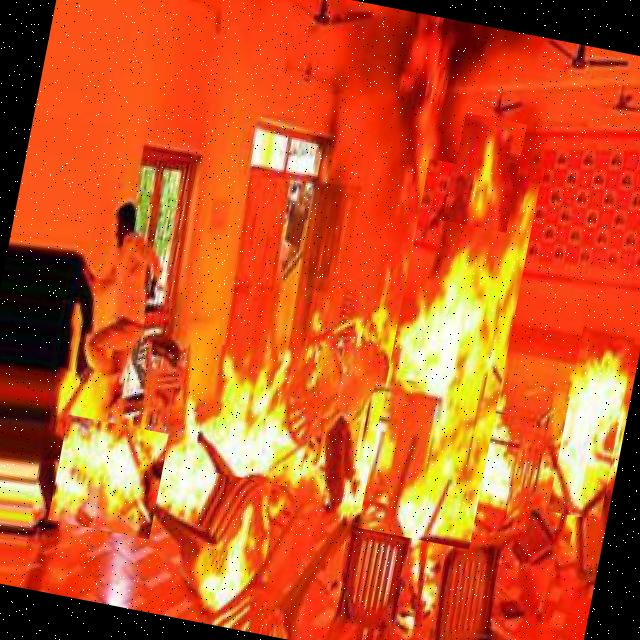fire: (358, 159, 541, 550), (192, 344, 322, 488), (548, 318, 638, 521), (48, 414, 170, 540), (445, 113, 527, 233)
